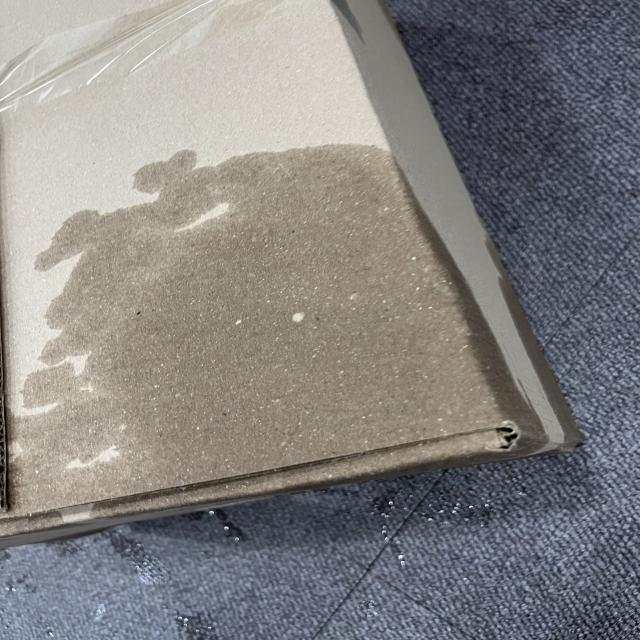wet: (20, 137, 584, 517)
